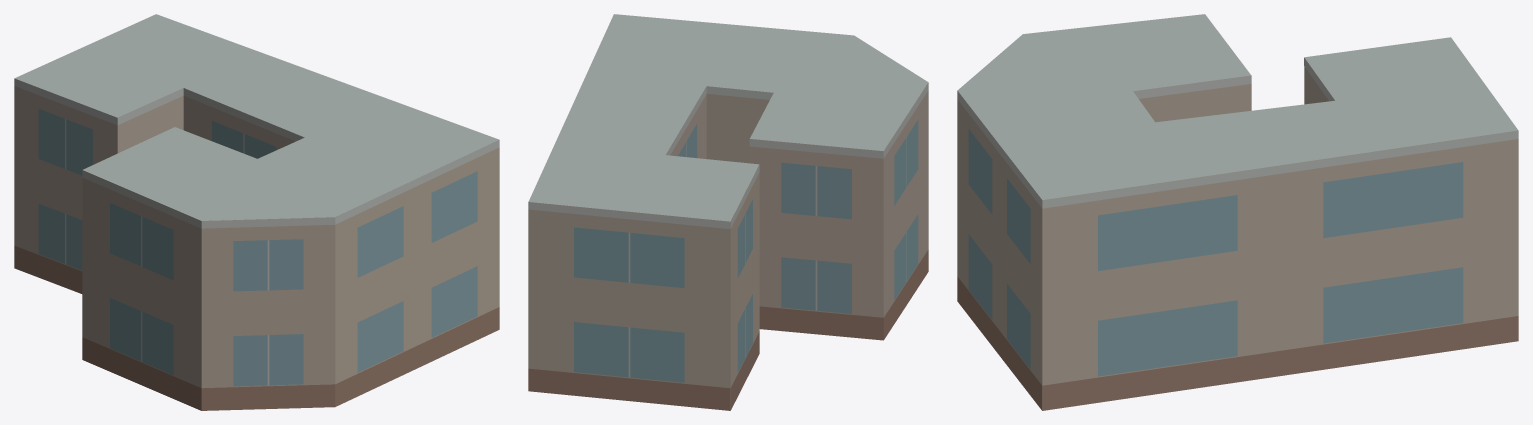
The model's file is survey-upis-32767197.glb.
The picture shows the model from 3 angles, left to right: view 1: azimuth 30°, elevation 25°; view 2: azimuth 150°, elevation 25°; view 3: azimuth 270°, elevation 25°; orthographic projection. The views are drawn at different scales.
Visible parts, largest first — view 1: survey-upis-32767197.tmp; view 2: survey-upis-32767197.tmp; view 3: survey-upis-32767197.tmp.
Boxes of the visible parts, x1,y1,x2,y2 form: survey-upis-32767197.tmp: (14, 14, 499, 410); survey-upis-32767197.tmp: (528, 14, 928, 410); survey-upis-32767197.tmp: (957, 14, 1518, 410).
Size of the model in its own units: 11.57 by 6.1 by 14.74.
